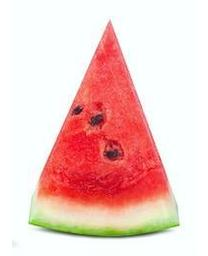watermelon: (27, 17, 182, 238)
